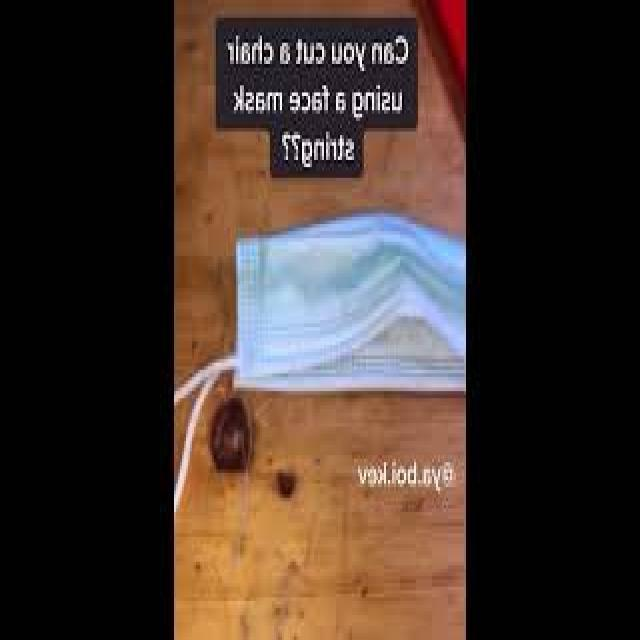face mask: (170, 213, 464, 504)
